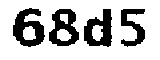5: (117, 6, 149, 51)
6: (7, 5, 45, 50)
8: (46, 6, 79, 51)
d: (80, 7, 114, 50)
